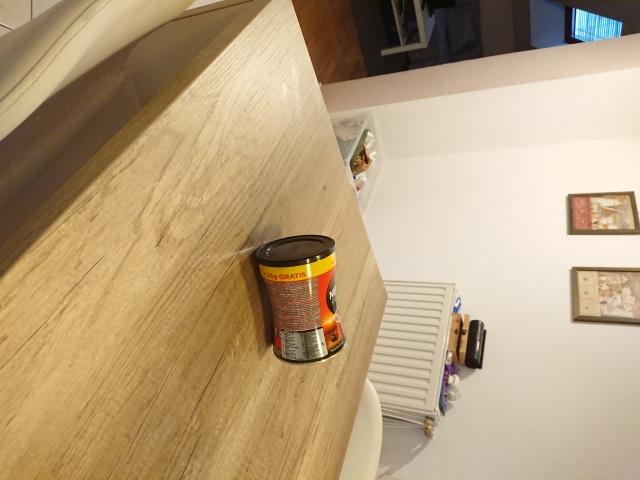Nescafe Classic 225g: (249, 230, 350, 367)
